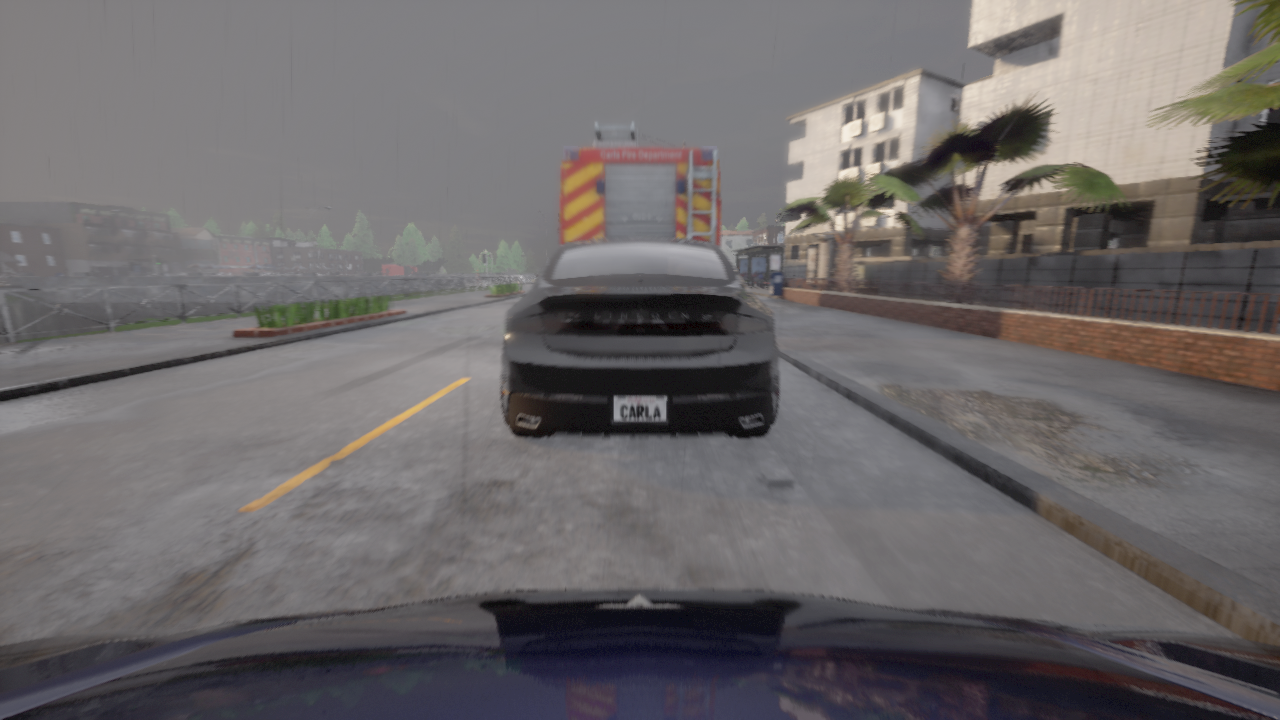cyclist: (0, 588, 1279, 719), (501, 236, 778, 437), (560, 122, 720, 247), (536, 272, 541, 278)
pedestrian: (475, 266, 482, 284)
